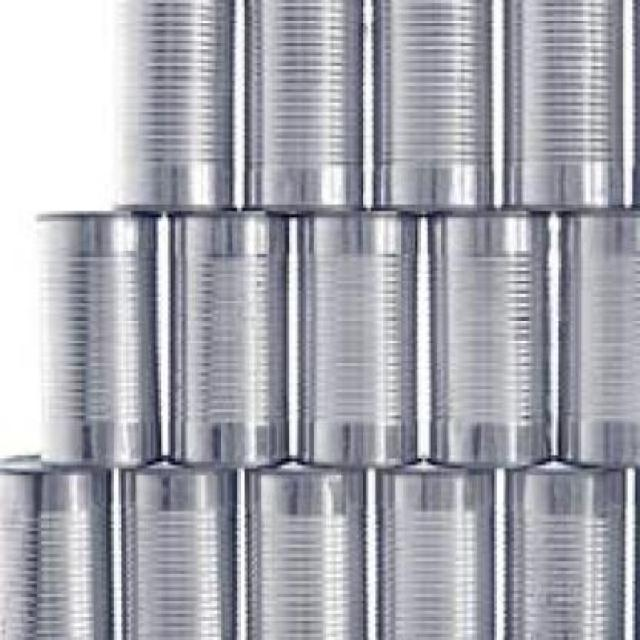METAL: (425, 208, 549, 462), (34, 210, 158, 462), (166, 207, 286, 465), (297, 208, 415, 462), (242, 0, 361, 208), (373, 0, 490, 208), (502, 0, 620, 205), (116, 0, 232, 205), (118, 455, 237, 637), (504, 458, 621, 637), (556, 208, 638, 462), (376, 458, 492, 637), (247, 458, 361, 637), (0, 452, 109, 637)
